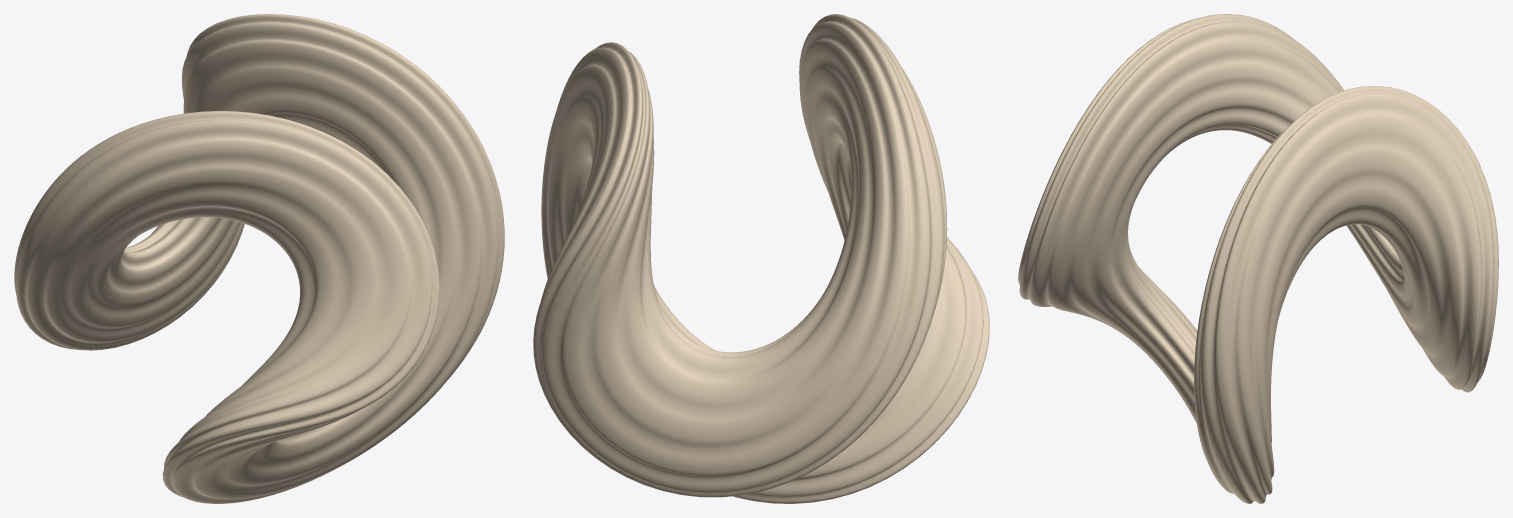
The picture shows the model from 3 angles, left to right: view 1: azimuth 30°, elevation 25°; view 2: azimuth 150°, elevation 25°; view 3: azimuth 270°, elevation 25°; orthographic projection. The views are drawn at different scales.
Visible parts, largest first — view 1: Torus006; view 2: Torus006; view 3: Torus006.
Part boxes in pixels (bbox=[...]): Torus006: bbox=[14, 14, 504, 503]; Torus006: bbox=[533, 14, 989, 503]; Torus006: bbox=[1018, 14, 1498, 503].
Size of the model in its own units: 2.68 by 2.6 by 2.68.
